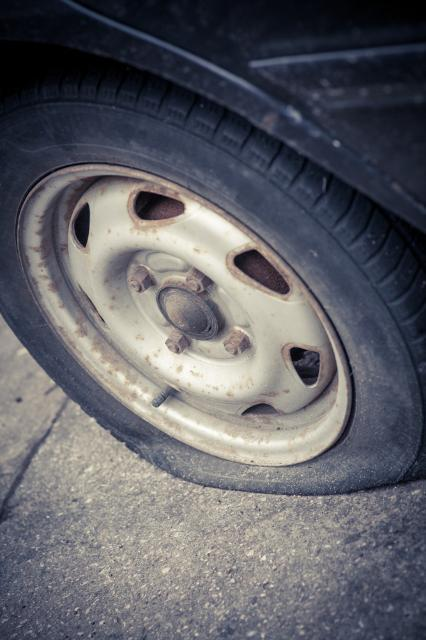tire flat: (0, 44, 426, 497)
